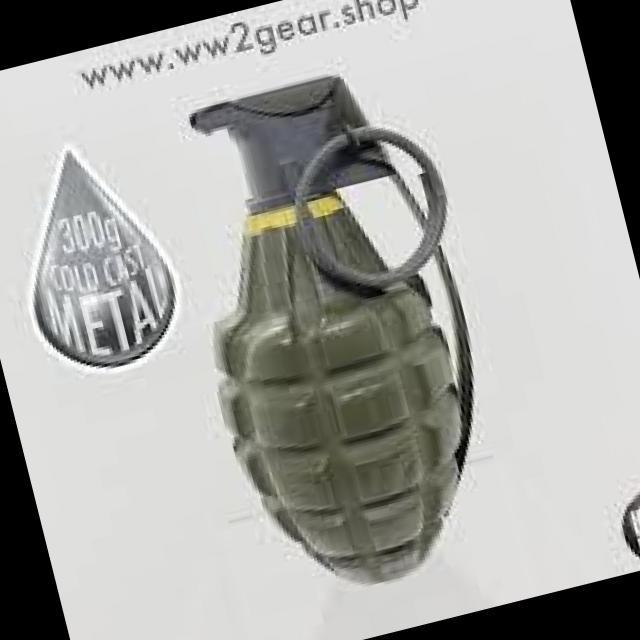grenade: (154, 52, 534, 610)
